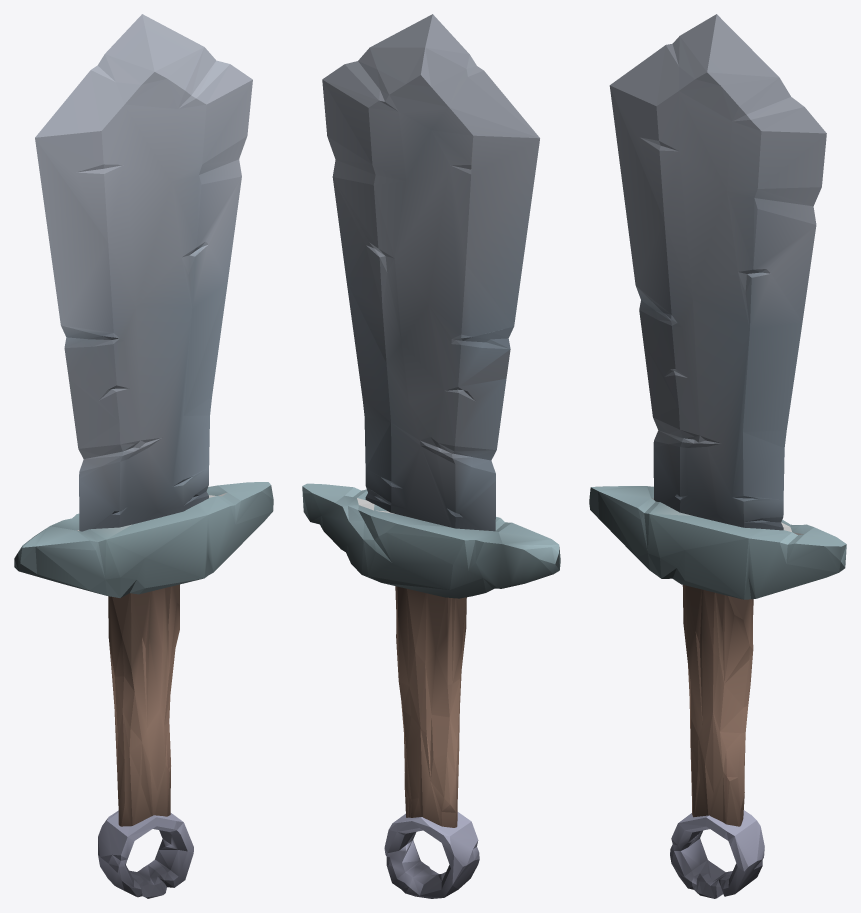
The model's file is basic_sword(dagger).fbx.
The picture shows the model from 3 angles, left to right: view 1: azimuth 30°, elevation 25°; view 2: azimuth 150°, elevation 25°; view 3: azimuth 330°, elevation 25°; orthographic projection.
Parts seen in each view (by area): view 1: basic_sword-dagger_mesh; view 2: basic_sword-dagger_mesh; view 3: basic_sword-dagger_mesh.
Part boxes in pixels (x1,y1,x2,y2): basic_sword-dagger_mesh: [14, 14, 273, 898]; basic_sword-dagger_mesh: [302, 14, 560, 898]; basic_sword-dagger_mesh: [589, 14, 846, 898].
Bounding box in the file's own units: 0.2213 × 0.7313 × 0.053.
